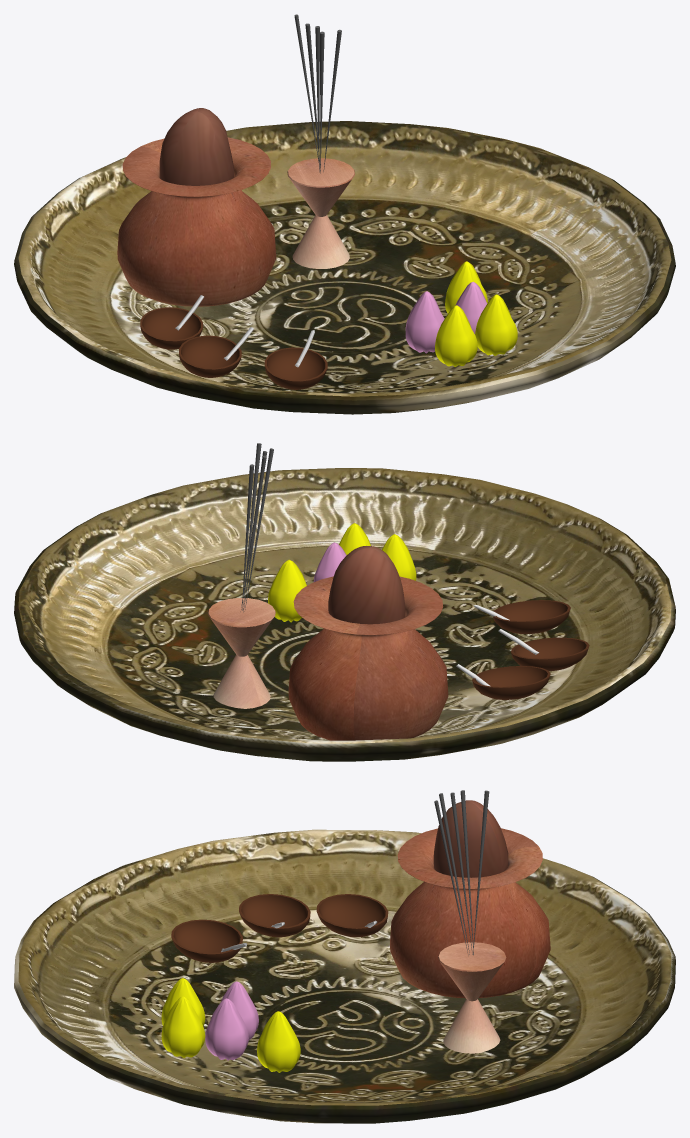
Rendered from pooja__aarti_thali_.glb.
3 views of the same model, one above another, from view 1: azimuth 30°, elevation 25°; view 2: azimuth 150°, elevation 25°; view 3: azimuth 270°, elevation 25° (orthographic).
Parts seen in each view (by area): view 1: THALI, polySurface47, Object_2_lambert22SG_0, Object_4_lambert18SG_0, polySurface14, Object_3_lambert17SG_0, polySurface70, polySurface69, polySurface71; view 2: THALI, polySurface47, Object_2_lambert22SG_0, polySurface14, Object_4_lambert18SG_0, polySurface69, polySurface71, polySurface70, Object_3_lambert17SG_0, Object_7_phong2_0, Object_5_lambert20SG_0; view 3: THALI, polySurface47, Object_4_lambert18SG_0, polySurface14, Object_2_lambert22SG_0, Object_3_lambert17SG_0, polySurface71, polySurface70, polySurface69, Object_12_lambert20SG_0.
Part boxes in pixels (x1,y1,x2,y2): THALI: (14,121,675,414); polySurface47: (117,137,276,306); Object_2_lambert22SG_0: (159,108,233,185); Object_4_lambert18SG_0: (435,261,517,366); polySurface14: (287,158,354,268); Object_3_lambert17SG_0: (405,281,487,353); polySurface70: (179,335,241,377); polySurface69: (264,347,327,389); polySurface71: (140,307,202,349); THALI: (14,468,675,761); polySurface47: (288,576,448,740); Object_2_lambert22SG_0: (328,546,405,624); polySurface14: (208,598,275,708); Object_4_lambert18SG_0: (268,523,416,622); polySurface69: (493,600,570,633); polySurface71: (472,666,550,699); polySurface70: (511,637,589,671); Object_3_lambert17SG_0: (313,542,346,581); Object_7_phong2_0: (456,605,538,686); Object_5_lambert20SG_0: (243,443,261,609); THALI: (14,829,675,1123); polySurface47: (390,828,550,998); Object_4_lambert18SG_0: (161,978,300,1072); polySurface14: (438,942,506,1053); Object_2_lambert22SG_0: (433,800,508,877); Object_3_lambert17SG_0: (205,981,258,1060); polySurface71: (316,894,388,937); polySurface70: (239,894,310,937); polySurface69: (171,919,242,962); Object_12_lambert20SG_0: (473,790,489,954).
Size of the model in its own units: 22.93 by 9.57 by 22.93.
8 materials, 3 textured.
